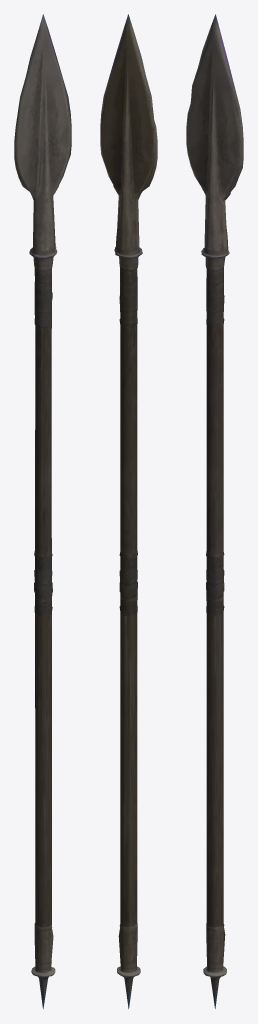
File: bronze-spear.glb
The picture shows the model from 3 angles, left to right: view 1: azimuth 30°, elevation 25°; view 2: azimuth 150°, elevation 25°; view 3: azimuth 330°, elevation 25°; orthographic projection.
Bounding box in the file's own units: 0.0576 × 0.9512 × 0.023.
1 material, 1 textured.
